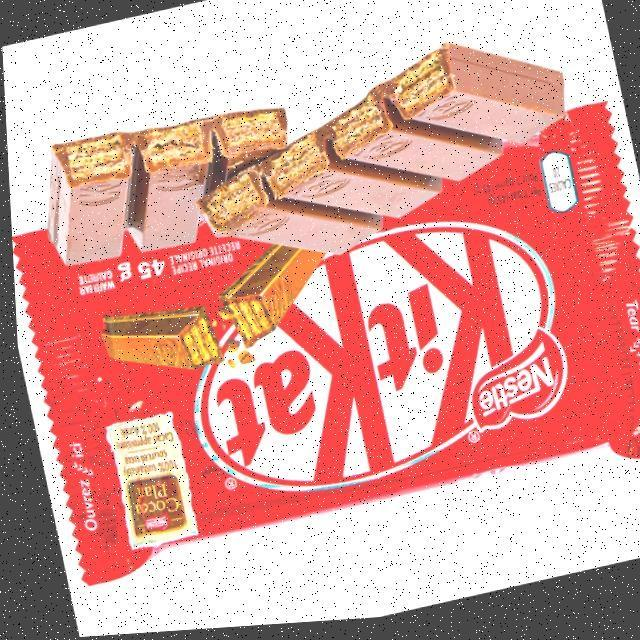kitkat_chocolate: (67, 88, 608, 625)
